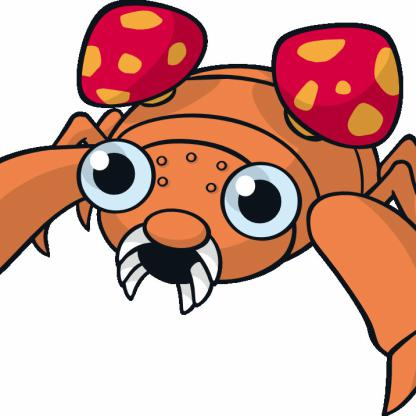Paras: (1, 3, 416, 416)
